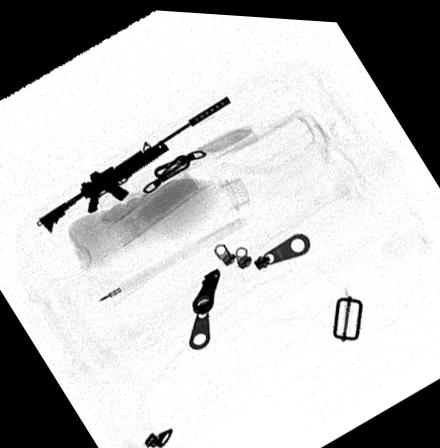Gun: (38, 90, 233, 234)
